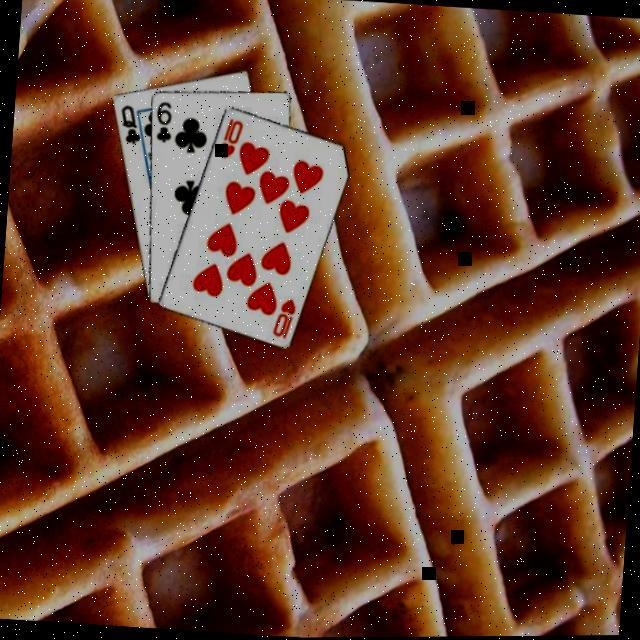10H: (217, 112, 247, 160), (270, 291, 300, 339)
6C: (153, 96, 178, 143)
QC: (118, 99, 147, 145)
